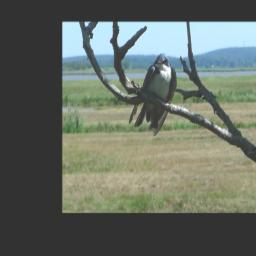Swallow: (127, 51, 178, 138)
